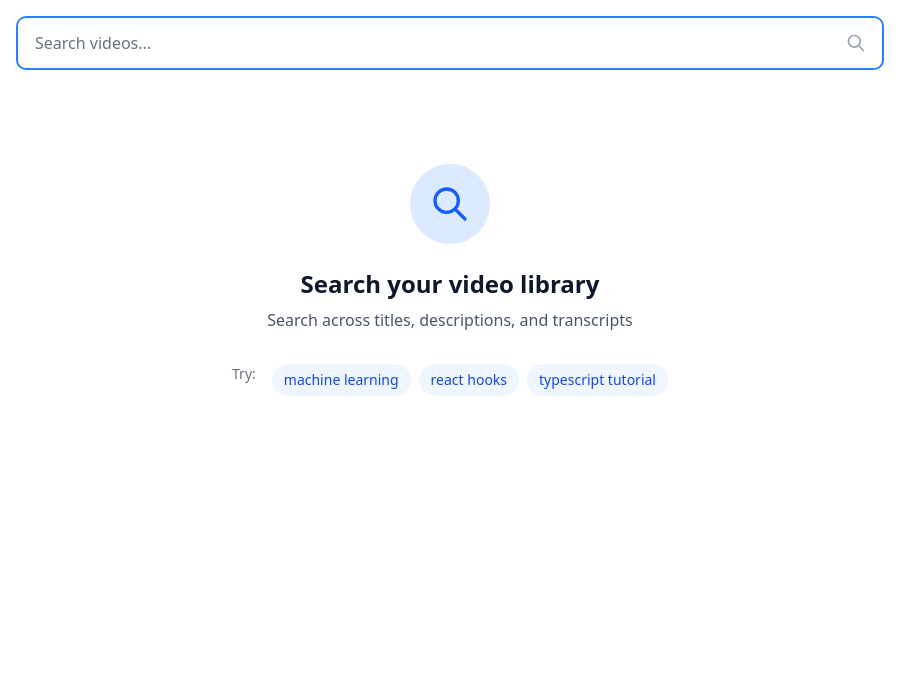
Test: SearchPage Phase 6 Tests › T036: Parallel Loading Tests › should show error in one section without blocking others
The width and height of the screenshot is (901, 675).
Type "test" into the search field at (450, 43), box x1=18 y1=18 x2=882 y2=68
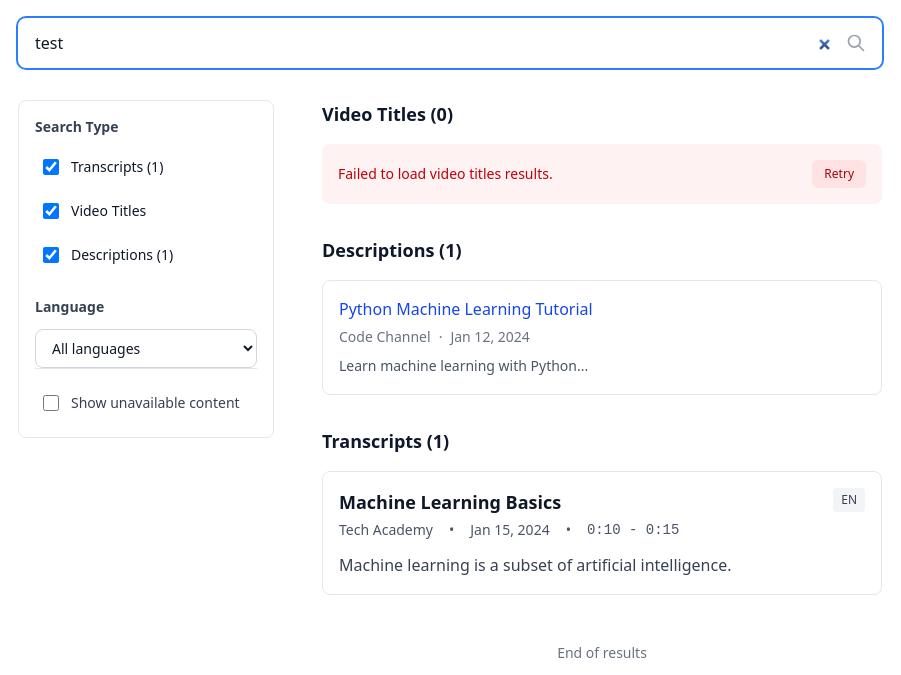
Now the text "Failed to load video titles results." is shown, box x1=338 y1=164 x2=553 y2=184
Now the heading "Python Machine Learning Tutorial" is shown, box x1=339 y1=298 x2=593 y2=320
Now the heading "Machine Learning Basics" is shown, box x1=339 y1=490 x2=561 y2=514
